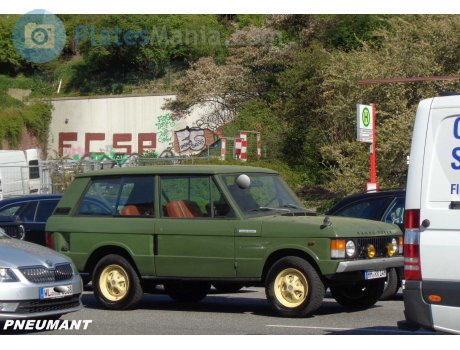License Plates: (367, 267, 388, 277)
